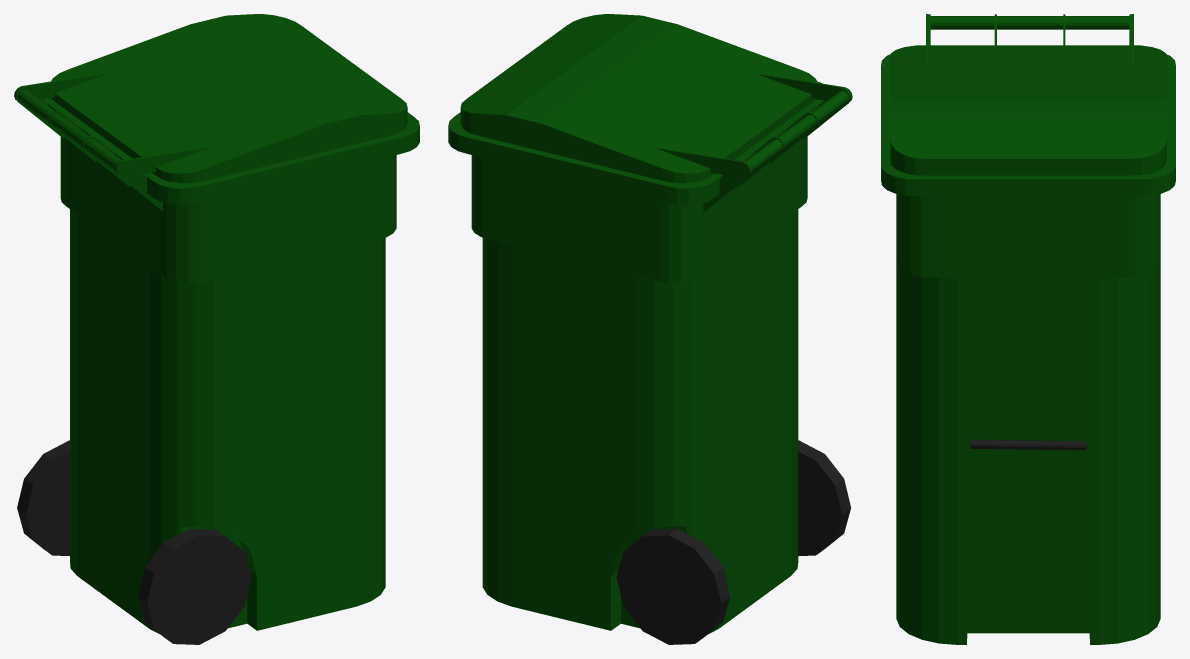
3 renders of one model, left to right at view 1: azimuth 30°, elevation 25°; view 2: azimuth 150°, elevation 25°; view 3: azimuth 270°, elevation 25°, orthographic.
Visible parts, largest first — view 1: mesh10_mesh10-geometry, mesh17_mesh17-geometry, mesh4_mesh4-geometry, mesh24.001_mesh24-geometry, mesh7_mesh7-geometry, mesh21.001_mesh21-geometry, mesh12_mesh12-geometry, mesh15.002_mesh15-geometry, mesh15.001_mesh15-geometry; view 2: mesh10_mesh10-geometry, mesh17_mesh17-geometry, mesh4_mesh4-geometry, mesh21.001_mesh21-geometry, mesh7_mesh7-geometry, mesh24.001_mesh24-geometry, mesh12_mesh12-geometry, mesh15.001_mesh15-geometry, mesh15.002_mesh15-geometry; view 3: mesh10_mesh10-geometry, mesh17_mesh17-geometry, mesh4_mesh4-geometry, mesh7_mesh7-geometry, mesh12_mesh12-geometry, mesh1_mesh1-geometry.
Part boxes in pixels (box(x1,y1,x2,y2)): mesh10_mesh10-geometry: box(70, 209, 385, 633); mesh17_mesh17-geometry: box(51, 14, 407, 183); mesh4_mesh4-geometry: box(60, 137, 396, 283); mesh24.001_mesh24-geometry: box(138, 528, 251, 644); mesh7_mesh7-geometry: box(42, 98, 419, 204); mesh21.001_mesh21-geometry: box(17, 440, 69, 556); mesh12_mesh12-geometry: box(17, 89, 121, 170); mesh15.002_mesh15-geometry: box(115, 146, 209, 176); mesh15.001_mesh15-geometry: box(14, 72, 108, 99); mesh10_mesh10-geometry: box(482, 209, 798, 633); mesh17_mesh17-geometry: box(460, 14, 817, 183); mesh4_mesh4-geometry: box(471, 136, 807, 283); mesh21.001_mesh21-geometry: box(616, 528, 730, 644); mesh7_mesh7-geometry: box(448, 81, 823, 204); mesh24.001_mesh24-geometry: box(798, 440, 850, 556); mesh12_mesh12-geometry: box(745, 91, 849, 171); mesh15.001_mesh15-geometry: box(656, 147, 751, 177); mesh15.002_mesh15-geometry: box(758, 73, 852, 101); mesh10_mesh10-geometry: box(896, 262, 1160, 644); mesh17_mesh17-geometry: box(890, 45, 1166, 175); mesh4_mesh4-geometry: box(896, 194, 1160, 277); mesh7_mesh7-geometry: box(881, 54, 1175, 196); mesh12_mesh12-geometry: box(930, 16, 1129, 29); mesh1_mesh1-geometry: box(970, 439, 1086, 450).
Size of the model in its own units: 0.4816 by 0.7733 by 0.4124.
